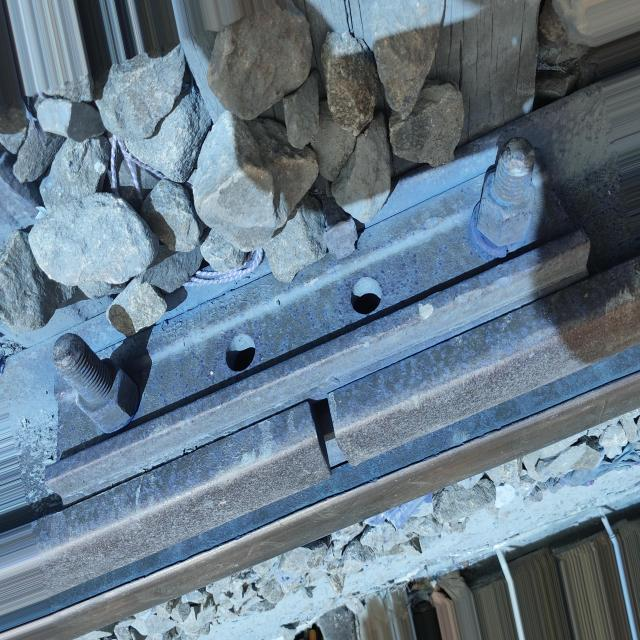Defective Joint: (40, 83, 631, 508)
